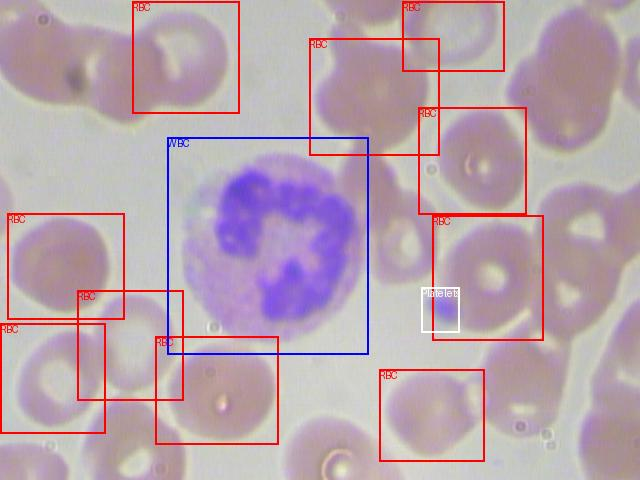Platelets: (421, 287, 459, 332)
RBC: (309, 38, 439, 155), (432, 215, 543, 340), (155, 336, 278, 444), (7, 213, 124, 319), (132, 1, 239, 113), (77, 290, 183, 400), (418, 107, 526, 214), (0, 323, 105, 433), (379, 369, 484, 461), (402, 1, 504, 71)
WBC: (167, 137, 368, 354)
